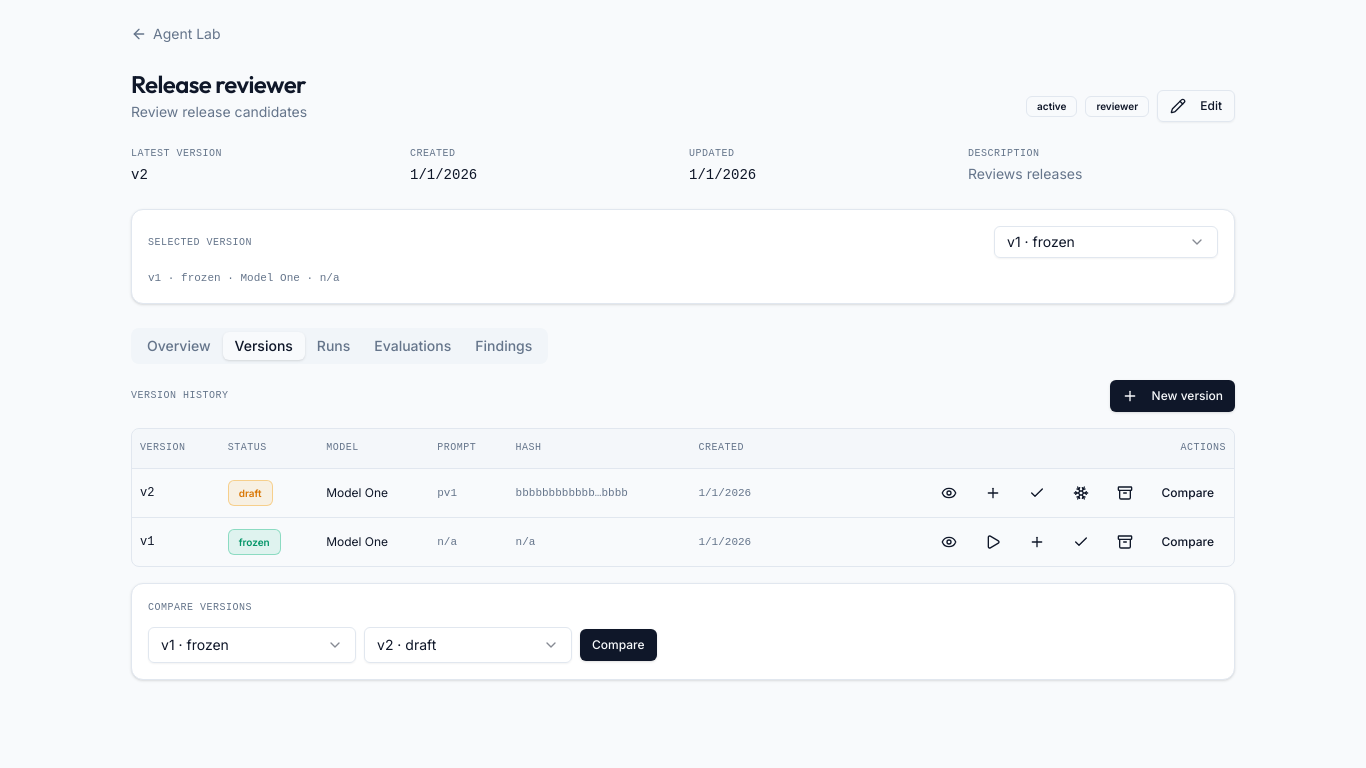
Test: model_capability.supports_tools false renders the tool use denied note
Click the button with test id "agent-run-open". click: (994, 542)
box: 974,526 -> 1014,558
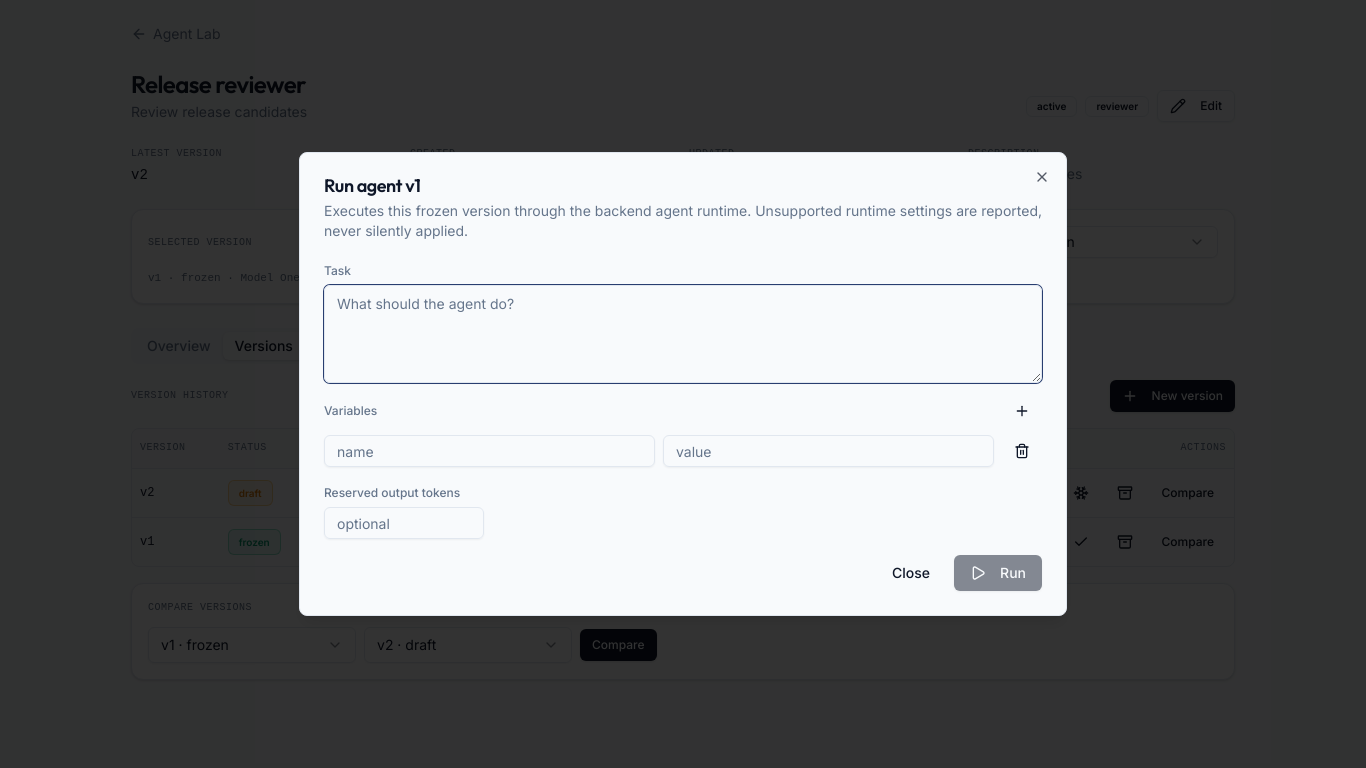
Result: the dialog with test id "agent-run-dialog" is shown at 299,152 -> 1067,616
Type "Check permissions" into the text box with test id "agent-run-task". click: (683, 334)
box: 324,285 -> 1042,383
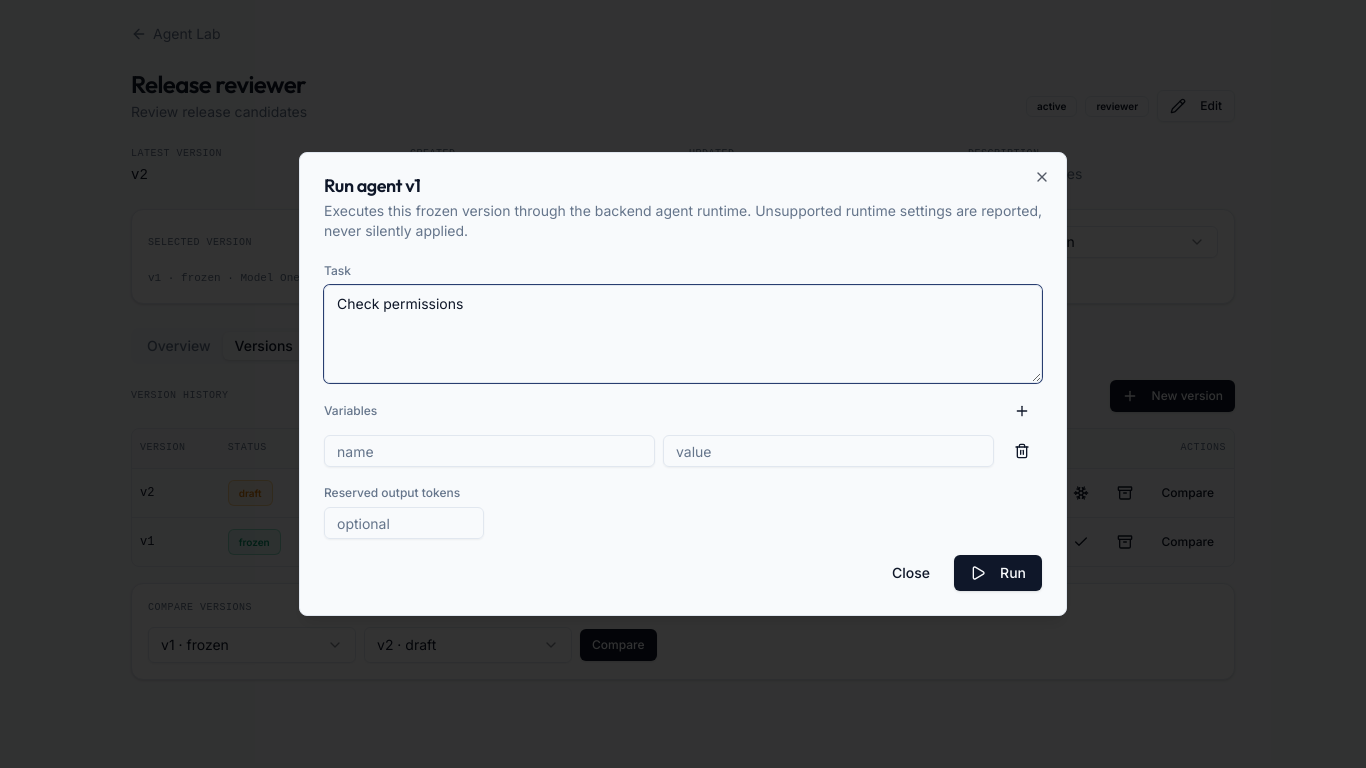
Click the button with test id "agent-run-submit". click: (998, 573)
box: 954,555 -> 1042,591
(page scrolled)
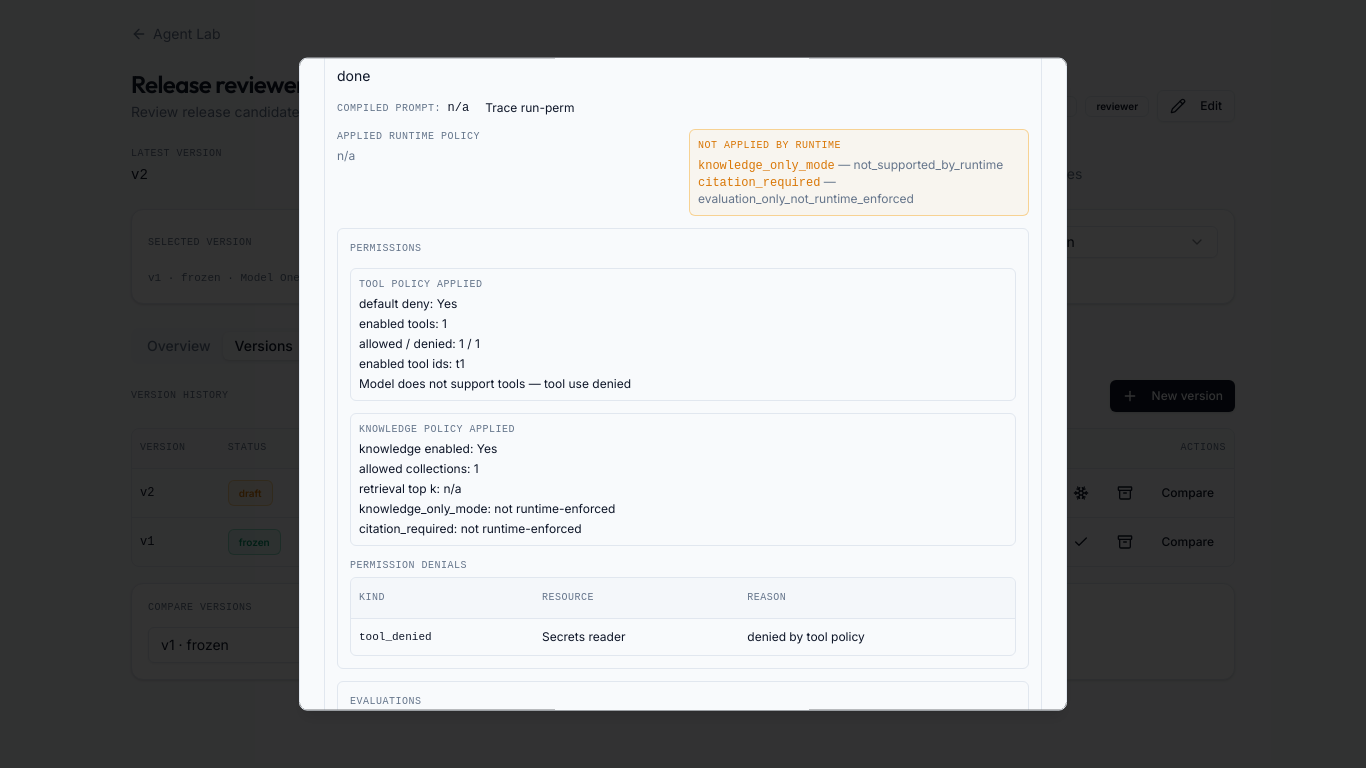
Result: the text with test id "agent-run-model-tools-note" reads "Model does not support tools — tool use denied" at 359,376 -> 631,391
